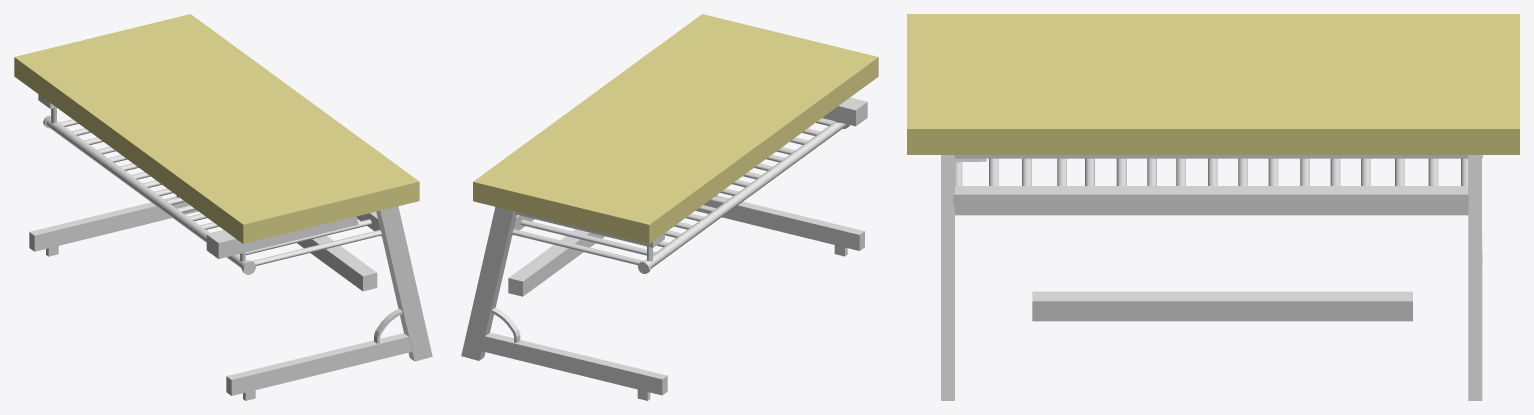
File: Mesa photorealistica2.fbx
3 views of the same model, side by side, from view 1: azimuth 30°, elevation 25°; view 2: azimuth 150°, elevation 25°; view 3: azimuth 270°, elevation 25° (orthographic). The views are drawn at different scales.
Visible parts, largest first — view 1: Cube, Cube.006, Cube.003, Cube.004; view 2: Cube, Cube.006, Cube.004, Cube.003, Cube.002; view 3: Cube, Cube.006, Cube.004, Cube.001.
Part boxes in pixels (bbox=[...]): Cube: bbox=[14, 14, 419, 243]; Cube.006: bbox=[29, 107, 432, 400]; Cube.003: bbox=[206, 216, 358, 258]; Cube.004: bbox=[297, 235, 377, 291]; Cube: bbox=[473, 14, 878, 244]; Cube.006: bbox=[461, 118, 864, 400]; Cube.004: bbox=[508, 229, 604, 296]; Cube.003: bbox=[822, 97, 867, 126]; Cube.002: bbox=[515, 211, 664, 247]; Cube: bbox=[907, 14, 1519, 154]; Cube.006: bbox=[941, 155, 1482, 400]; Cube.004: bbox=[1032, 291, 1412, 321]; Cube.001: bbox=[955, 155, 1467, 158].
Size of the model in its own units: 143 by 125 by 271.
